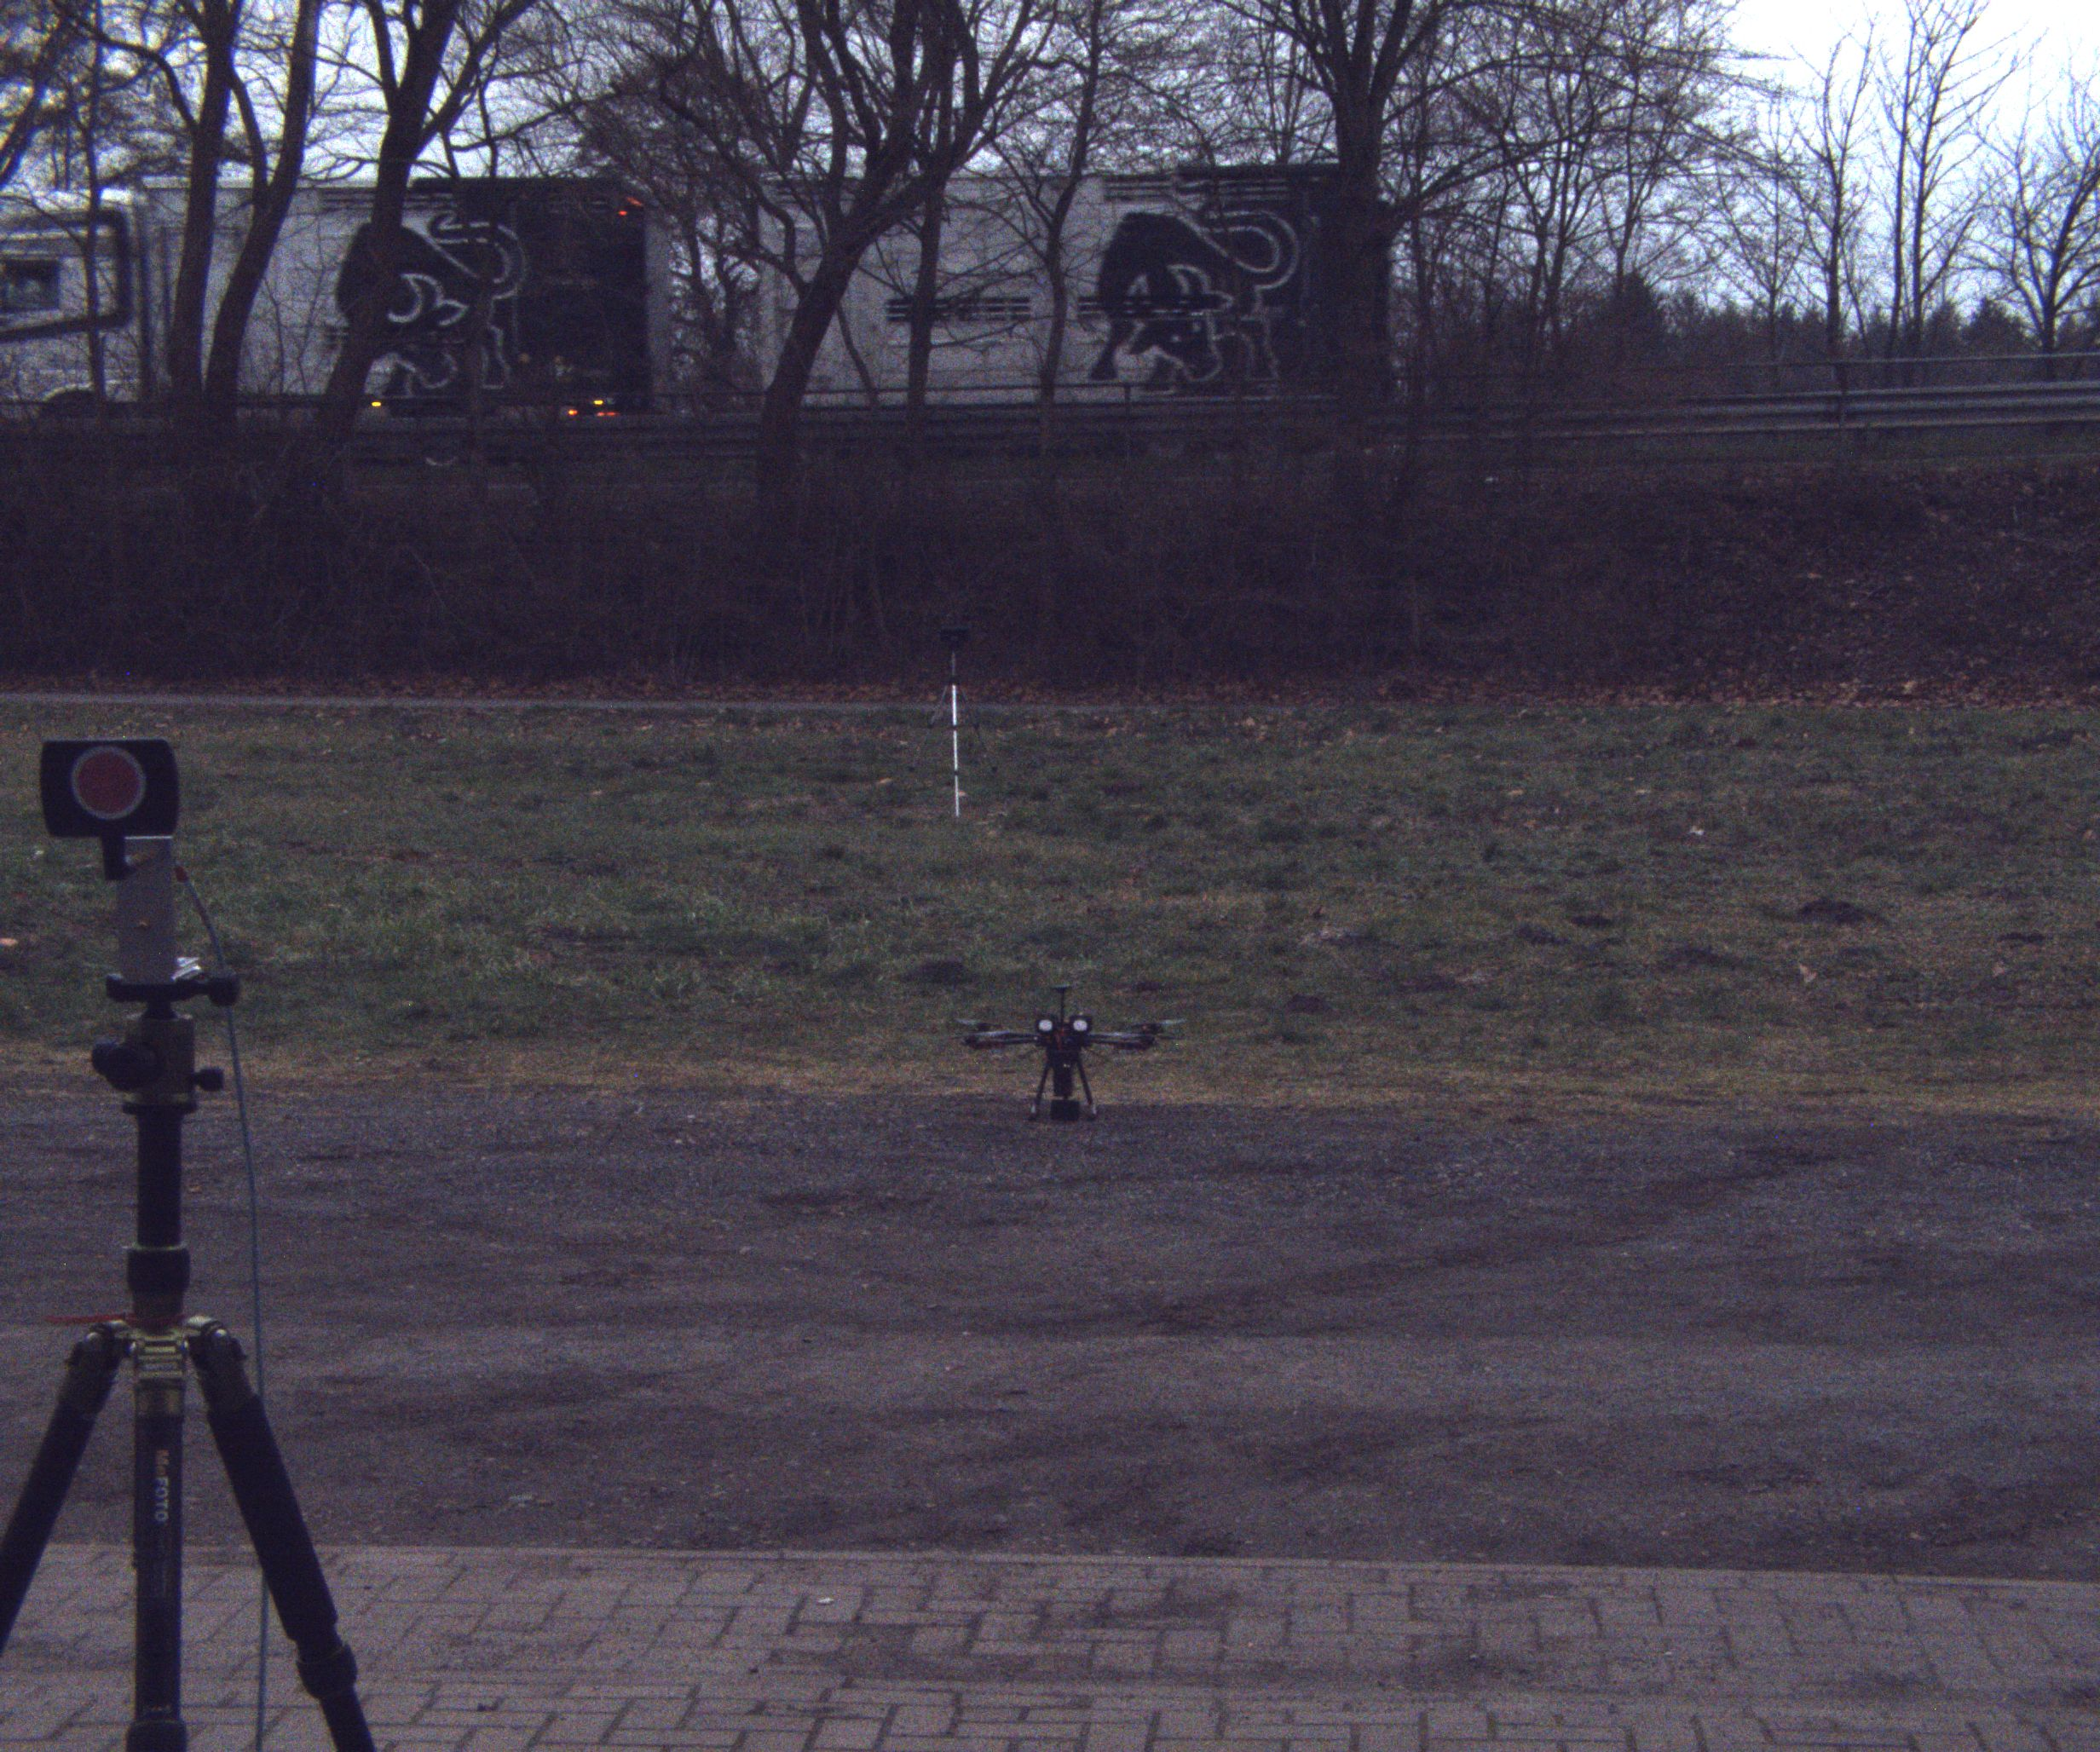Drohne: (940, 971, 1195, 1130)
